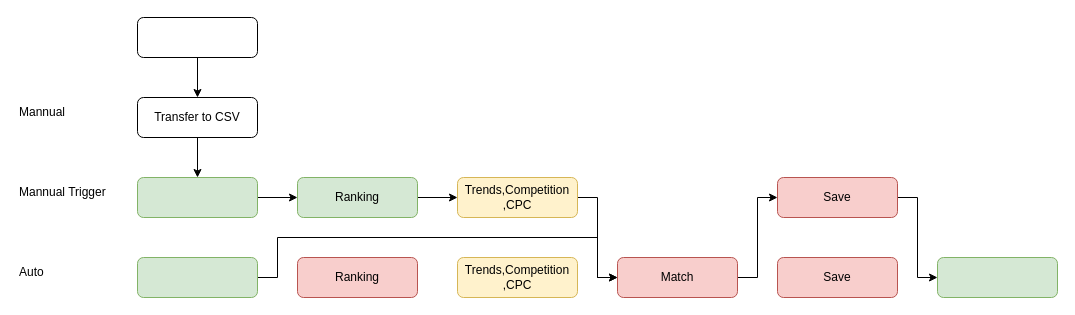
This 1075x315 diagram has some shape labels left out. The centre of each missing label's shape, as x and y in pixels:
"API Get" goes at (x=997, y=277).
"Check & Import" goes at (x=197, y=197).
"Page & Click & Internal Link Num" goes at (x=197, y=277).
"Sales Keywords" goes at (x=197, y=37).
